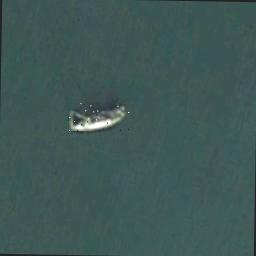boat: (68, 103, 130, 132)
